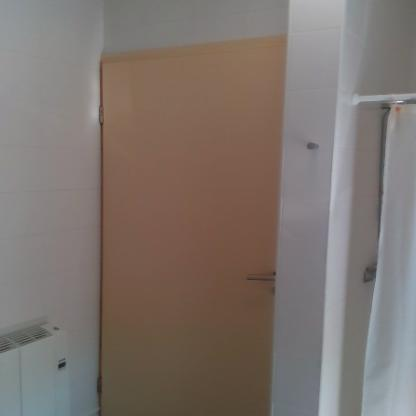door: (99, 62, 281, 416)
hinged: (98, 105, 107, 127), (97, 377, 103, 395)
lever: (244, 272, 280, 282)
